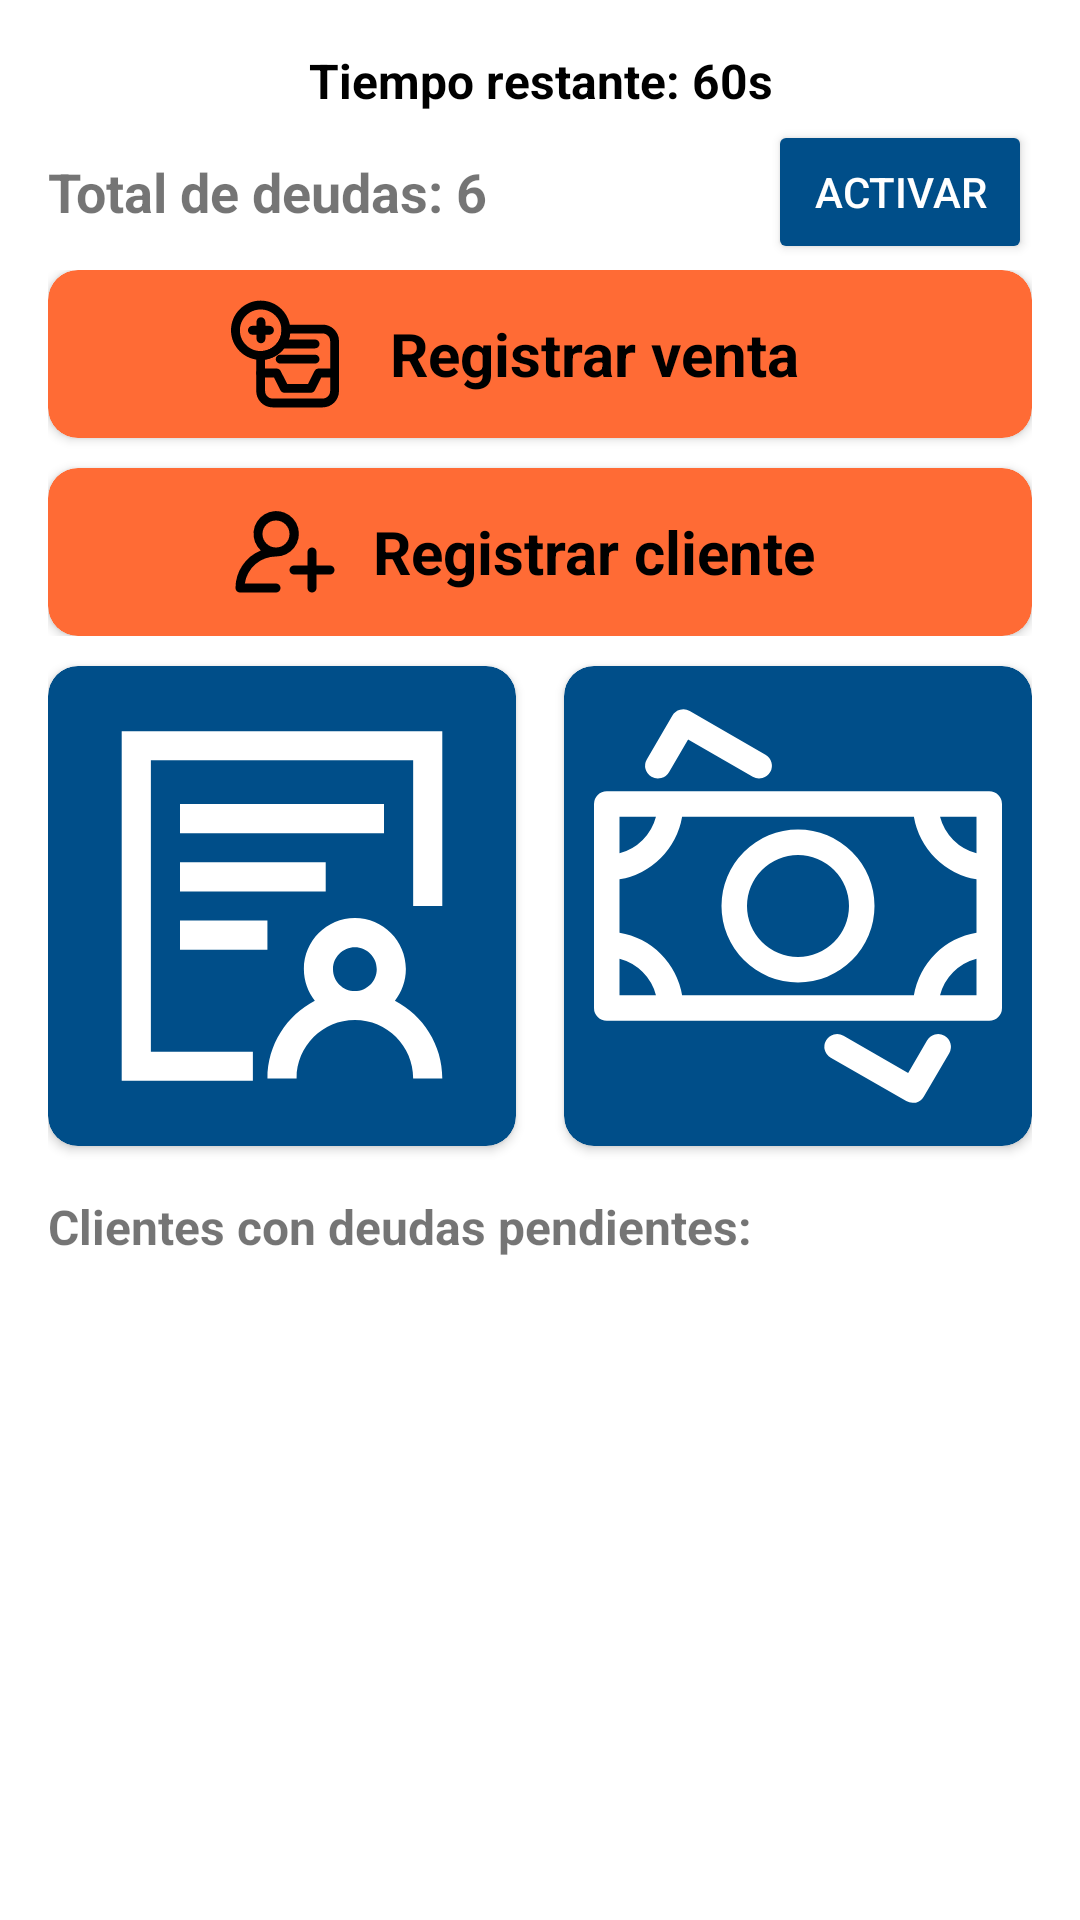

Screen size 1080*1920. Icon name, then its center in pixels as [x,y]:
add customer: [285,552]
add sale: [285,354]
